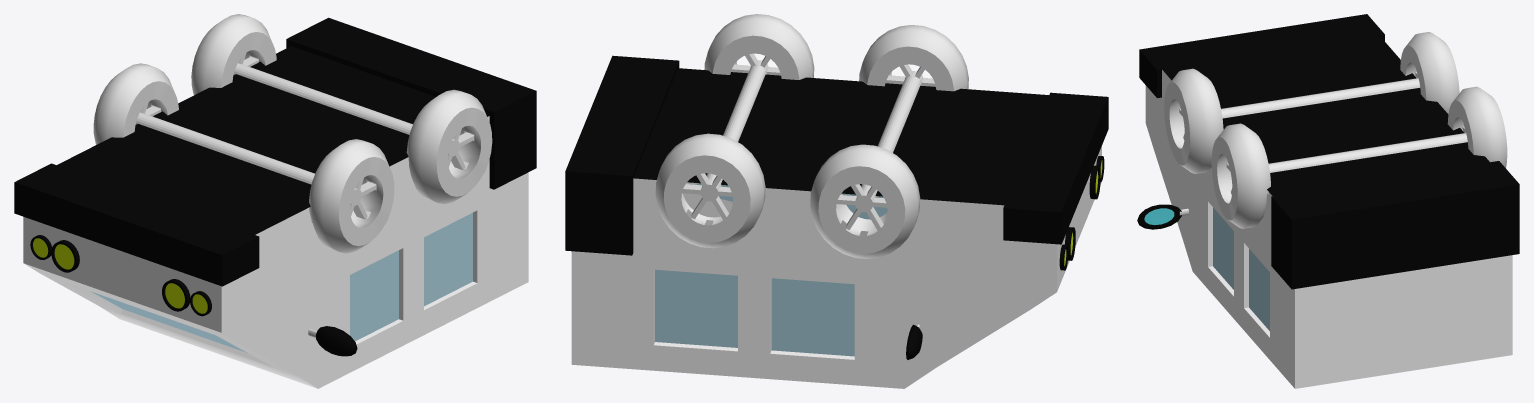
The picture shows the model from 3 angles, left to right: view 1: azimuth 30°, elevation 25°; view 2: azimuth 150°, elevation 25°; view 3: azimuth 270°, elevation 25°; orthographic projection. The views are drawn at different scales.
Parts seen in each view (by area): view 1: Boîte027, Boîte031, Boîte032, Tube044, Tube048, Tube045, Tube049, Cylindre008, Cylindre023, Sphère094, Cylindre017, Cylindre020 (+2 smaller); view 2: Boîte027, Boîte032, Boîte031, Tube045, Tube049, Tube044, Tube048, Cylindre008, Cylindre023, Cylindre007, Cylindre022; view 3: Boîte027, Boîte032, Boîte031, Tube048, Tube044, Tube049, Tube045, Cylindre008, Cylindre023, Sphère094.
Boxes of the visible parts, x1=… form: Boîte027: x1=23, y1=46, x2=528, y2=388; Boîte031: x1=14, y1=163, x2=259, y2=286; Boîte032: x1=286, y1=17, x2=536, y2=189; Tube044: x1=309, y1=139, x2=394, y2=253; Tube048: x1=406, y1=89, x2=492, y2=203; Tube045: x1=93, y1=63, x2=178, y2=144; Tube049: x1=191, y1=14, x2=276, y2=95; Cylindre008: x1=135, y1=102, x2=314, y2=184; Cylindre023: x1=233, y1=52, x2=412, y2=134; Sphère094: x1=316, y1=326, x2=357, y2=356; Cylindre017: x1=51, y1=240, x2=79, y2=272; Cylindre020: x1=162, y1=279, x2=190, y2=311; Boîte027: x1=571, y1=68, x2=1101, y2=388; Boîte032: x1=565, y1=55, x2=679, y2=255; Boîte031: x1=1003, y1=92, x2=1108, y2=244; Tube045: x1=810, y1=144, x2=920, y2=258; Tube049: x1=655, y1=133, x2=765, y2=248; Tube044: x1=859, y1=25, x2=968, y2=91; Tube048: x1=704, y1=14, x2=814, y2=79; Cylindre008: x1=836, y1=76, x2=921, y2=230; Cylindre023: x1=682, y1=65, x2=766, y2=219; Cylindre007: x1=885, y1=64, x2=935, y2=86; Cylindre022: x1=731, y1=53, x2=780, y2=75; Boîte027: x1=1145, y1=35, x2=1512, y2=388; Boîte032: x1=1271, y1=161, x2=1519, y2=289; Boîte031: x1=1139, y1=14, x2=1384, y2=98; Tube048: x1=1211, y1=123, x2=1270, y2=228; Tube044: x1=1164, y1=68, x2=1223, y2=173; Tube049: x1=1447, y1=86, x2=1507, y2=167; Tube045: x1=1400, y1=32, x2=1459, y2=113; Cylindre008: x1=1221, y1=71, x2=1420, y2=118; Cylindre023: x1=1268, y1=126, x2=1467, y2=172; Sphère094: x1=1137, y1=204, x2=1181, y2=229.
Size of the model in its own units: 51.89 by 24.47 by 39.87.
